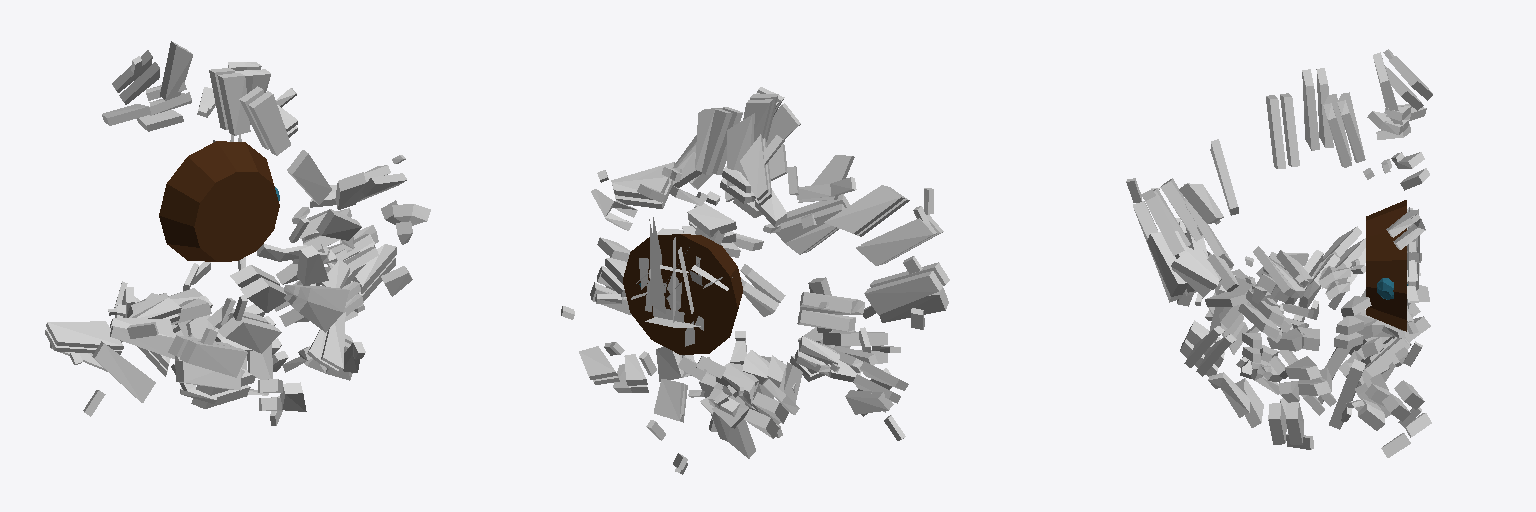
The picture shows the model from 3 angles: view 1: azimuth 30°, elevation 25°; view 2: azimuth 150°, elevation 25°; view 3: azimuth 270°, elevation 25°; orthographic projection.
Visible parts, largest first — view 1: Cone.001_Cone.001_cover, Cone_Cone_cover, Cylinder_Cylinder_Material.001; view 2: Cone_Cone_cover, Cone.001_Cone.001_cover, Cylinder_Cylinder_Material.001, Plane_Plane_Material.003; view 3: Cone.001_Cone.001_cover, Cone_Cone_cover, Cylinder_Cylinder_Material.001, Plane_Plane_Material.003.
Boxes of the visible parts, box(x1,y1,x2,y2) form: Cone.001_Cone.001_cover: box(45, 41, 406, 416); Cone_Cone_cover: box(124, 172, 430, 425); Cylinder_Cylinder_Material.001: box(159, 141, 279, 261); Cone_Cone_cover: box(561, 135, 949, 474); Cone.001_Cone.001_cover: box(591, 87, 933, 440); Cylinder_Cylinder_Material.001: box(623, 234, 742, 354); Plane_Plane_Material.003: box(631, 217, 732, 346); Cone.001_Cone.001_cover: box(1126, 49, 1432, 427); Cone_Cone_cover: box(1133, 178, 1431, 457); Cylinder_Cylinder_Material.001: box(1366, 200, 1406, 331); Plane_Plane_Material.003: box(1407, 207, 1429, 308).
Size of the model in its own units: 3.28 by 3.44 by 2.57.
4 materials, 1 textured.